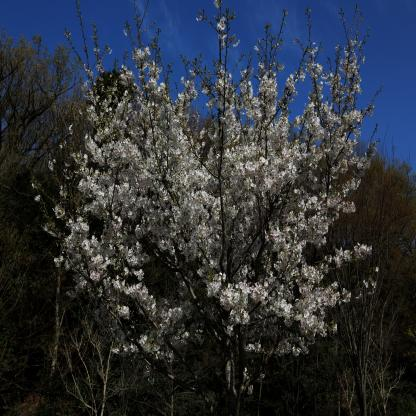OshimaSakura: (32, 0, 382, 404)
